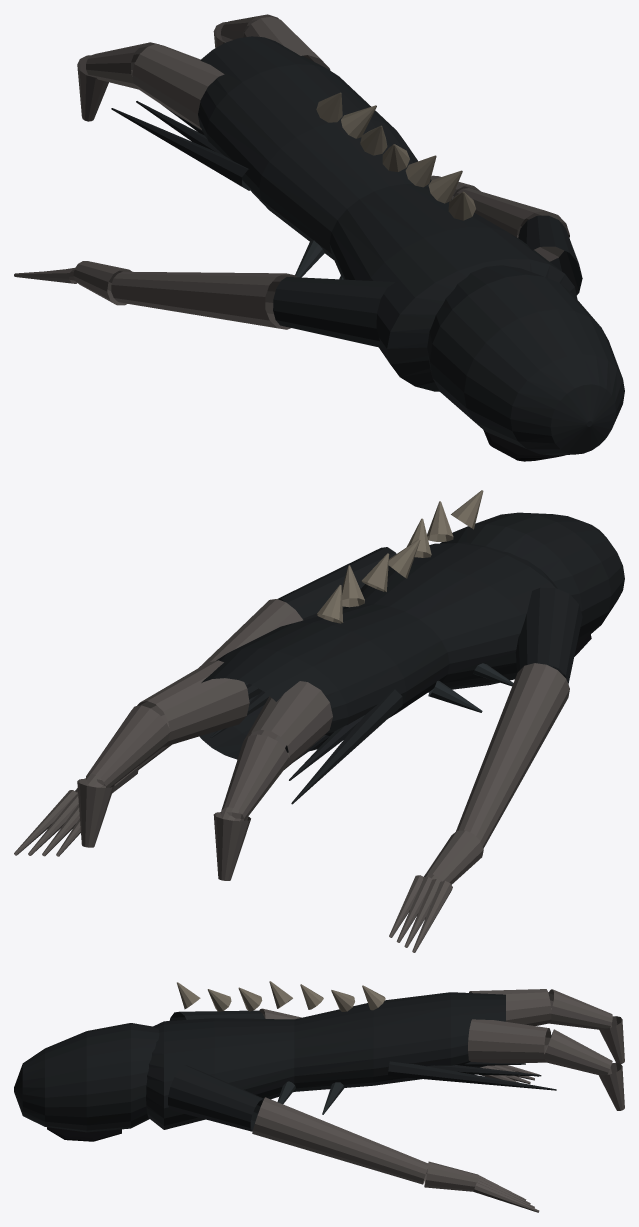
File: SM_Podezdnik_2026_v01.obj
The picture shows the model from 3 angles, top to bottom: view 1: azimuth 30°, elevation 25°; view 2: azimuth 150°, elevation 25°; view 3: azimuth 270°, elevation 25°; orthographic projection. The views are drawn at different scales.
Parts seen in each view (by area): view 1: trunk, forearm, thigh, shoulder, spine, rag, faceless_void; view 2: trunk, thigh, forearm, shoulder, spine, rag, key_shard; view 3: trunk, thigh, forearm, shoulder, rag, spine, faceless_void, key_shard.
Part boxes in pixels (box(x1,y1,x2,y2)): trunk: box(198, 36, 624, 455); forearm: box(14, 175, 569, 329); thigh: box(77, 14, 330, 129); shoulder: box(273, 215, 582, 348); spine: box(316, 92, 475, 220); rag: box(111, 101, 251, 190); faceless_void: box(483, 430, 565, 461); trunk: box(199, 512, 624, 759); thigh: box(77, 660, 332, 880); forearm: box(14, 599, 569, 952); shoulder: box(278, 547, 582, 684); spine: box(317, 490, 483, 623); rag: box(210, 682, 402, 804); key_shard: box(428, 663, 513, 712); trunk: box(14, 992, 505, 1132); thigh: box(468, 989, 624, 1110); forearm: box(252, 1008, 539, 1212); shoulder: box(168, 1010, 264, 1131); rag: box(388, 1061, 556, 1090); spine: box(177, 981, 385, 1011); faceless_void: box(47, 1127, 121, 1141); key_shard: box(277, 1081, 344, 1114).
Size of the model in its own units: 147 by 79.77 by 277.
